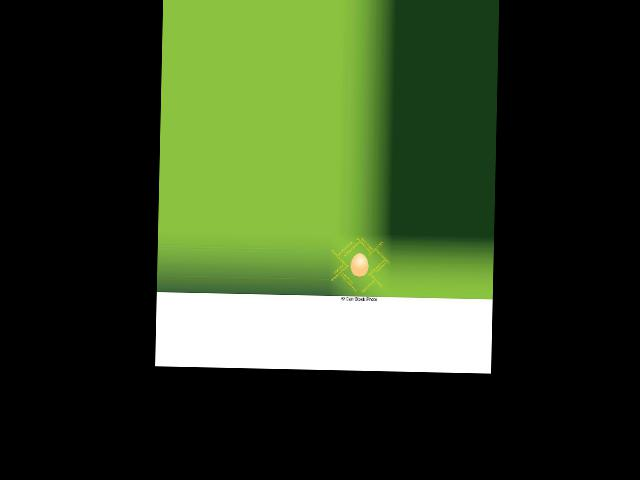egg: (350, 252, 368, 276)
